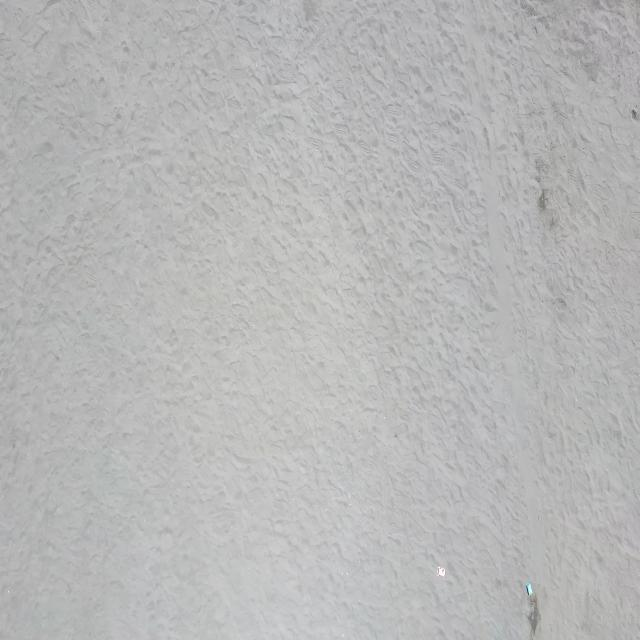Garbage: (524, 582, 532, 595), (436, 566, 444, 575)
